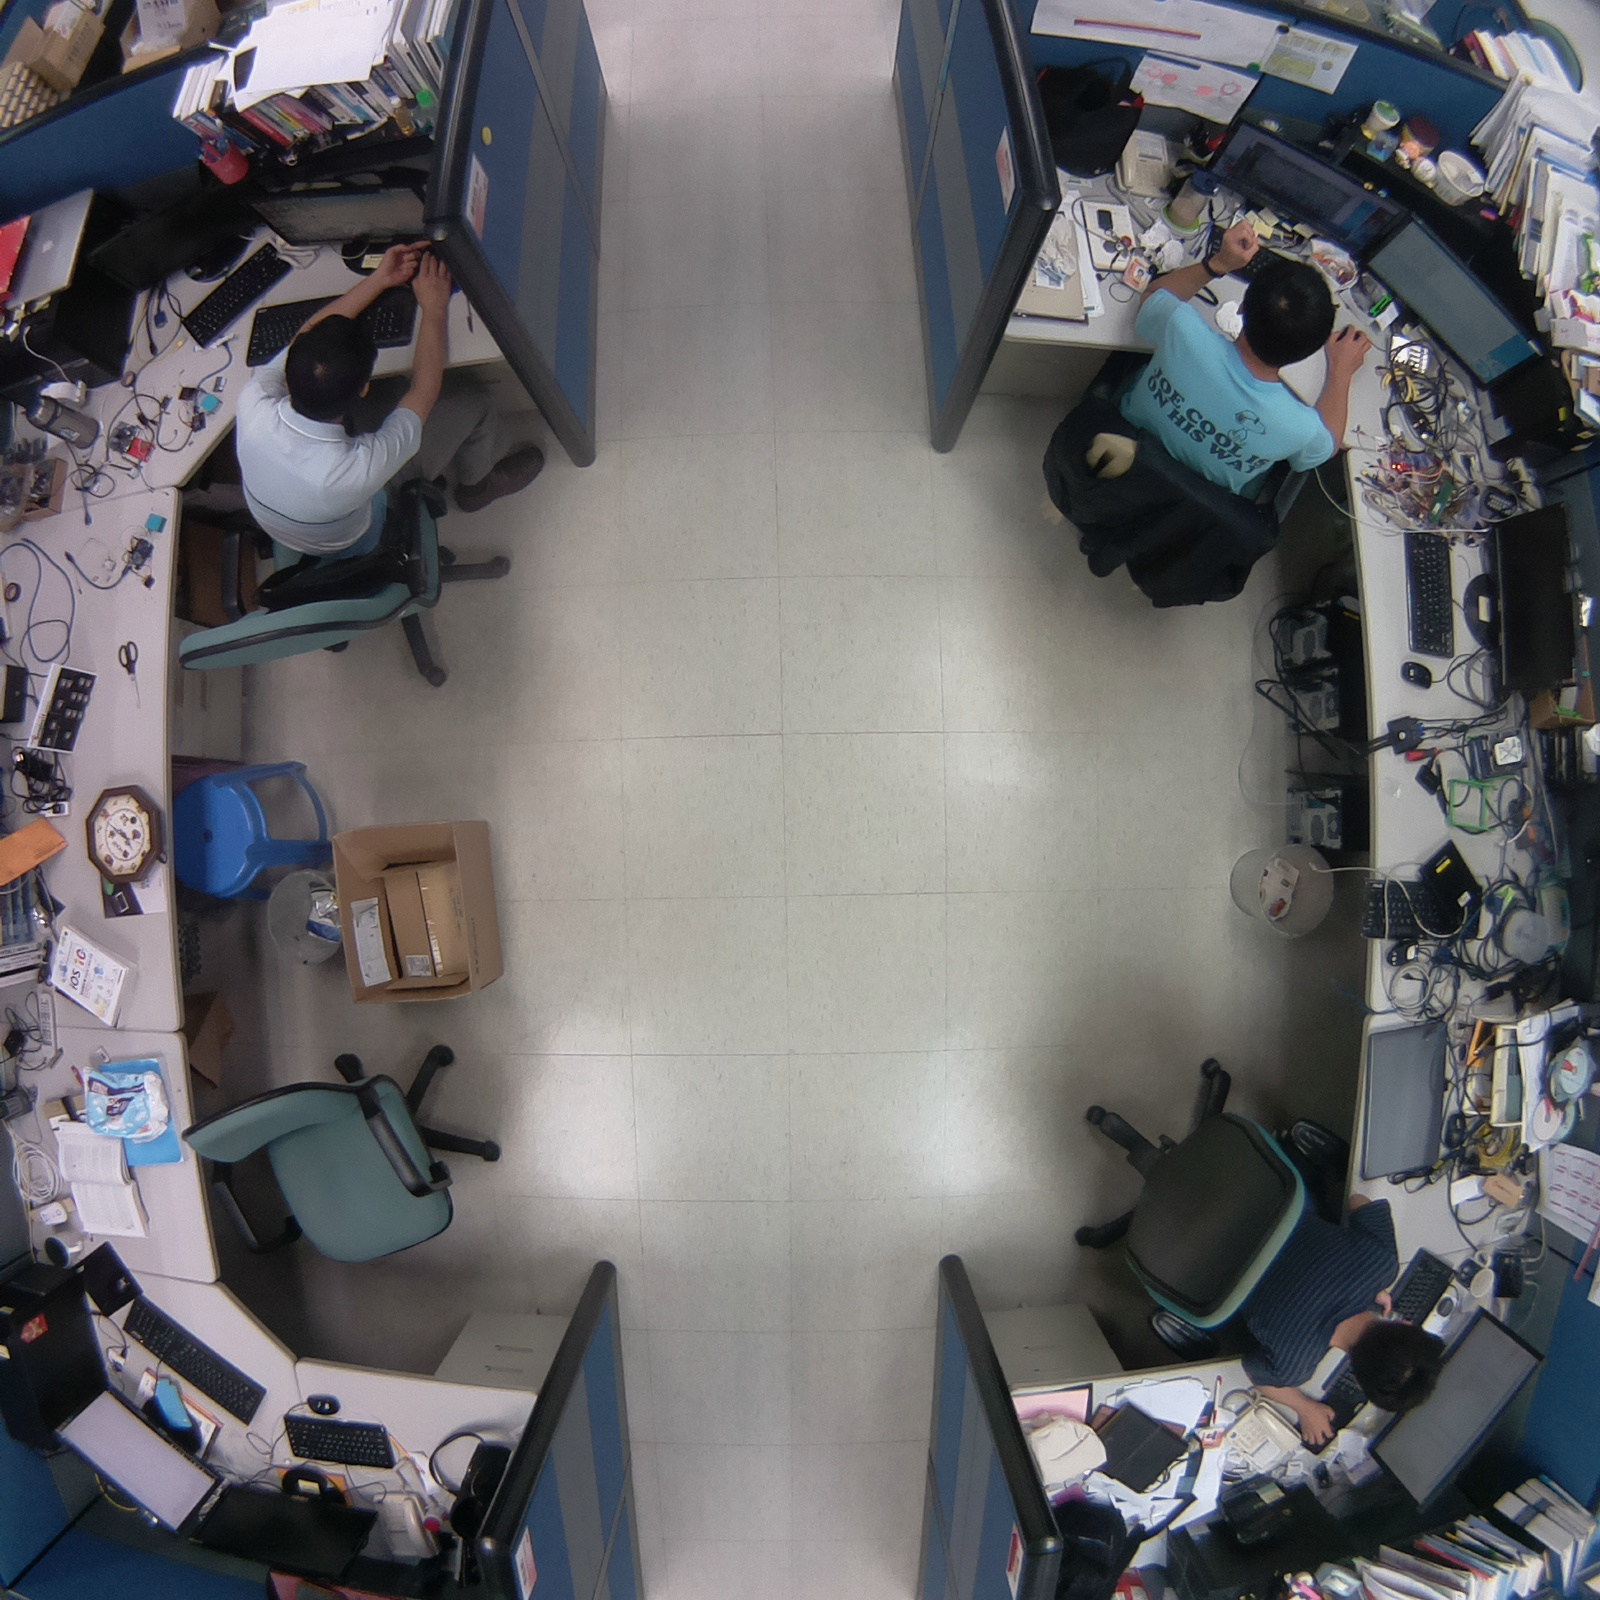chair: (170, 1004, 524, 1283)
head: (278, 308, 390, 418), (1337, 1318, 1458, 1420), (1233, 253, 1343, 363)
sitting: (155, 227, 553, 696), (1055, 1037, 1450, 1450), (1032, 209, 1383, 632)
